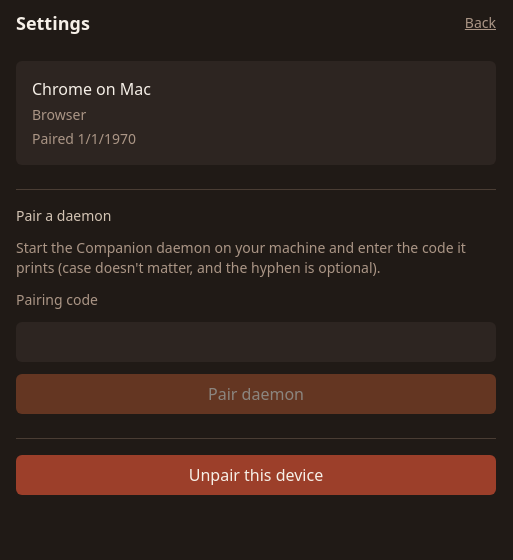
Scenario: SettingsScreen › requires confirmation before unpairing
The width and height of the screenshot is (513, 560).
Check: the text "Chrome on Mac" is shown, box [32,78,151,100]
Click the button "Unpair this device" at point(256, 475), box [16,455,496,495]
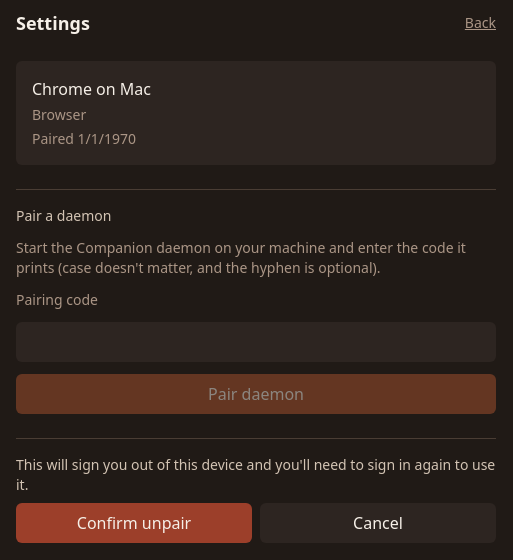
Check: the button "Confirm unpair" is shown, box [16,503,252,543]
